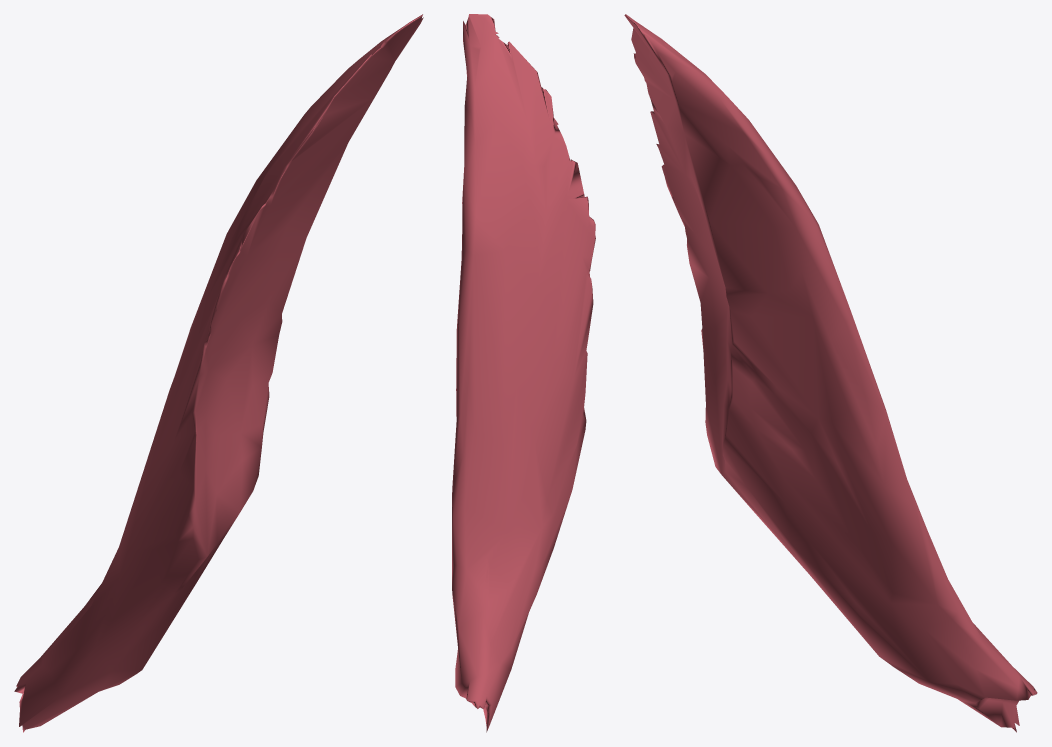
The picture shows the model from 3 angles, left to right: view 1: azimuth 30°, elevation 25°; view 2: azimuth 150°, elevation 25°; view 3: azimuth 270°, elevation 25°; orthographic projection. The views are drawn at different scales.
Visible parts, largest first — view 1: 右侧头上斜肌; view 2: 右侧头上斜肌; view 3: 右侧头上斜肌.
Part boxes in pixels (x1,y1,x2,y2): 右侧头上斜肌: (14,14,423,732); 右侧头上斜肌: (452,14,595,732); 右侧头上斜肌: (624,14,1037,732).
Size of the model in its own units: 0.0211 by 0.0734 by 0.0338.
